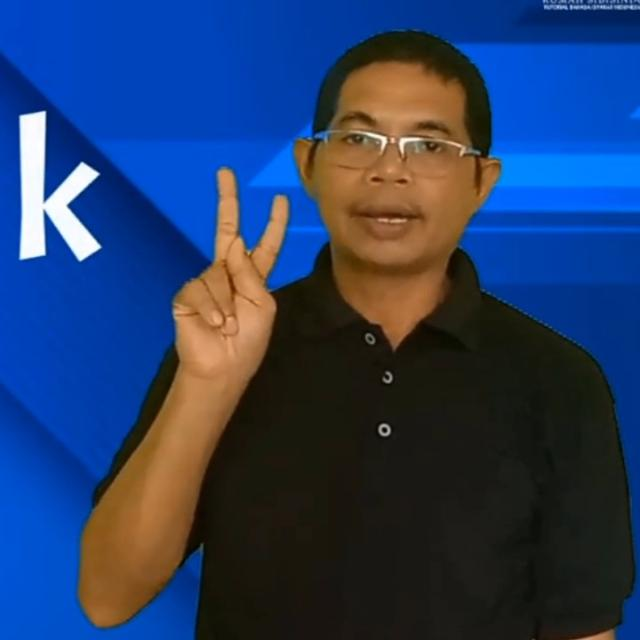K: (165, 164, 292, 390)
